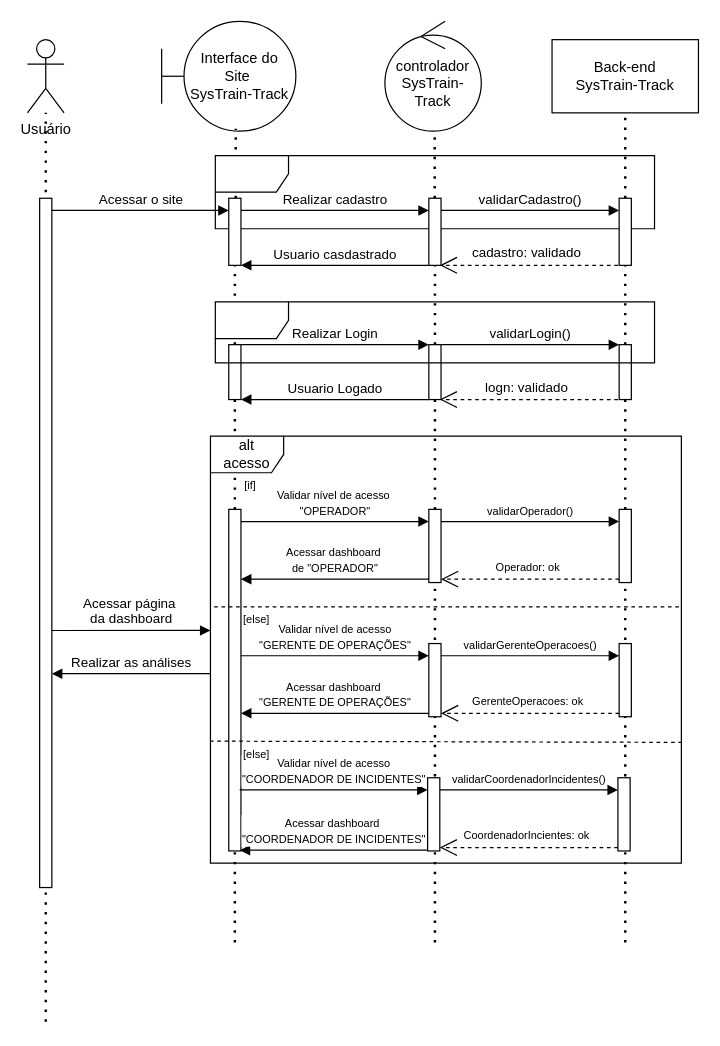
The diagram is 720 pixels wide and 1046 high, and some of its shapes have lost their labels. The shapes that lost their labels are listed below. From the top down, each one's centre as x and y in pixels, then its label:
At point (434, 191): "loop cadastro".
At point (434, 332): "loop login".
